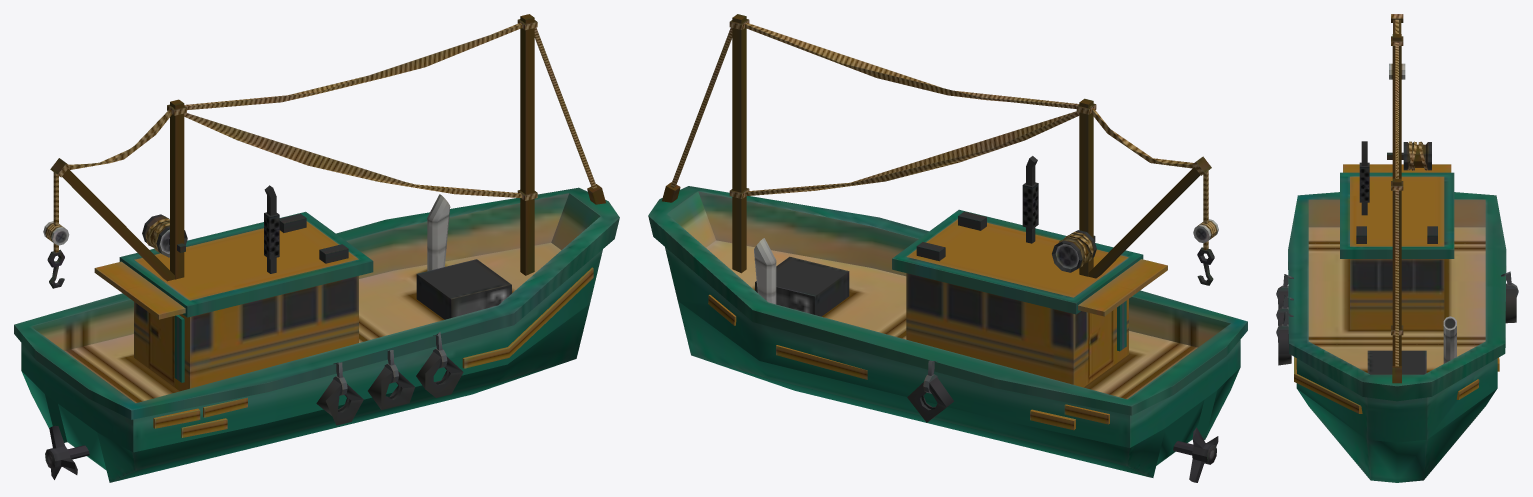
The model's file is transport-boat-309.glb.
The picture shows the model from 3 angles, left to right: view 1: azimuth 30°, elevation 25°; view 2: azimuth 150°, elevation 25°; view 3: azimuth 270°, elevation 25°; orthographic projection. The views are drawn at different scales.
Parts seen in each view (by area): view 1: Boat; view 2: Boat; view 3: Boat.
Part boxes in pixels (x1=…): Boat: x1=14, y1=14, x2=619, y2=482; Boat: x1=648, y1=14, x2=1247, y2=482; Boat: x1=1276, y1=14, x2=1518, y2=482.
Size of the model in its own units: 928 by 558 by 410.
Materials: 1 (1 with a texture image).
